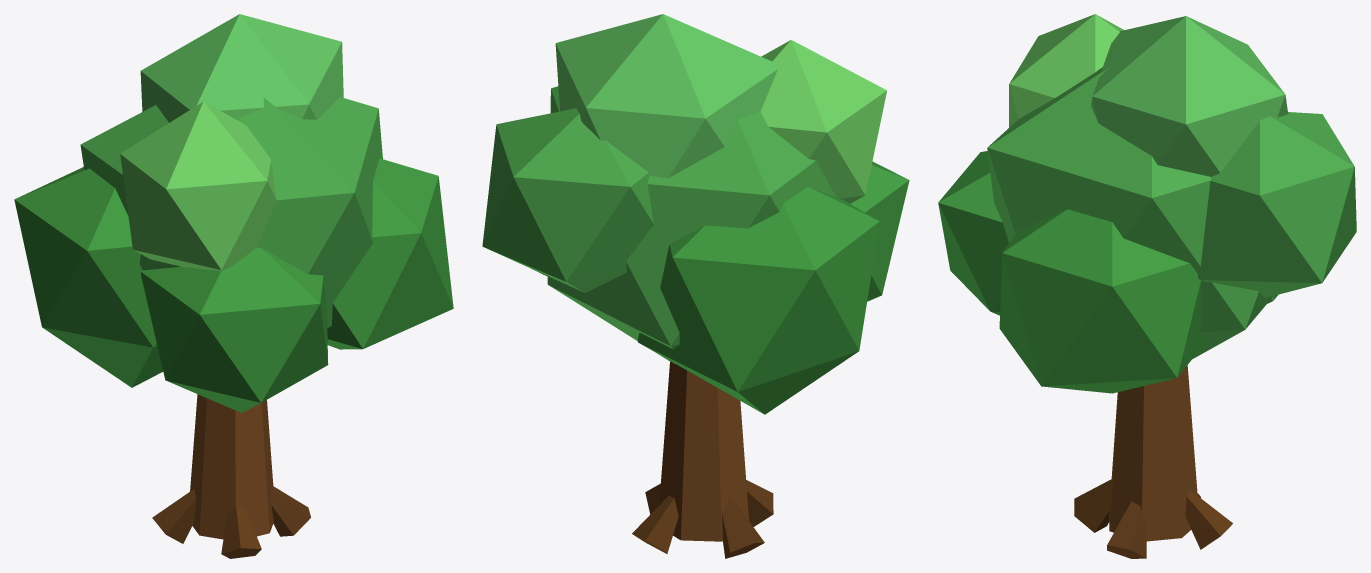
Rendered from laubbaum.glb.
3 renders of one model, left to right at view 1: azimuth 30°, elevation 25°; view 2: azimuth 150°, elevation 25°; view 3: azimuth 270°, elevation 25°, orthographic. The views are drawn at different scales.
Visible parts, largest first — view 1: laub, stamm; view 2: laub, stamm; view 3: laub, stamm.
Part boxes in pixels (bbox=[...]): laub: bbox=[14, 14, 453, 412]; stamm: bbox=[152, 394, 310, 558]; laub: bbox=[482, 14, 909, 414]; stamm: bbox=[632, 361, 773, 558]; laub: bbox=[938, 14, 1356, 393]; stamm: bbox=[1074, 365, 1232, 558].
Size of the model in its own units: 3.83 by 5.21 by 3.69.
